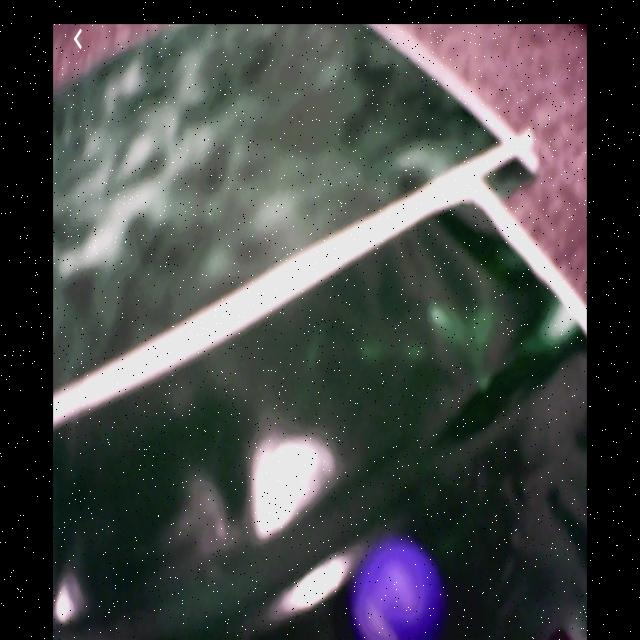ball: (351, 538, 440, 638)
